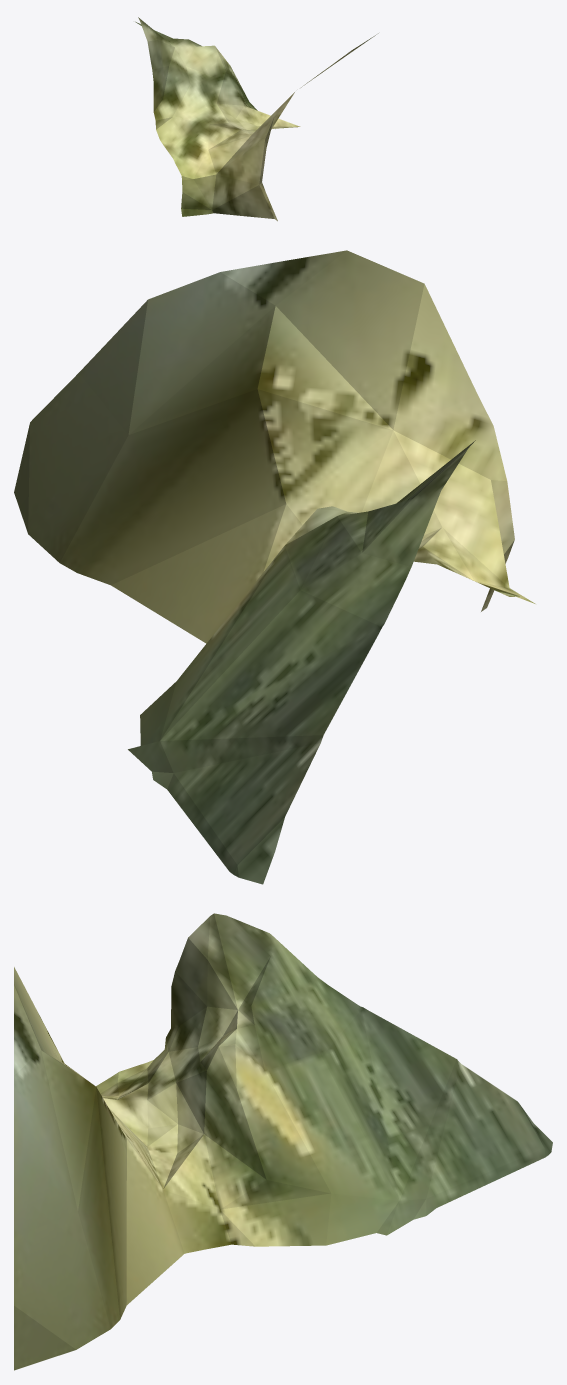
3 renders of one model, top to bottom at view 1: azimuth 30°, elevation 25°; view 2: azimuth 150°, elevation 25°; view 3: azimuth 270°, elevation 25°, orthographic. The views are drawn at different scales.
Bounding box in the file's own units: 2.8 × 1.47 × 2.79.
1 material, 1 textured.
